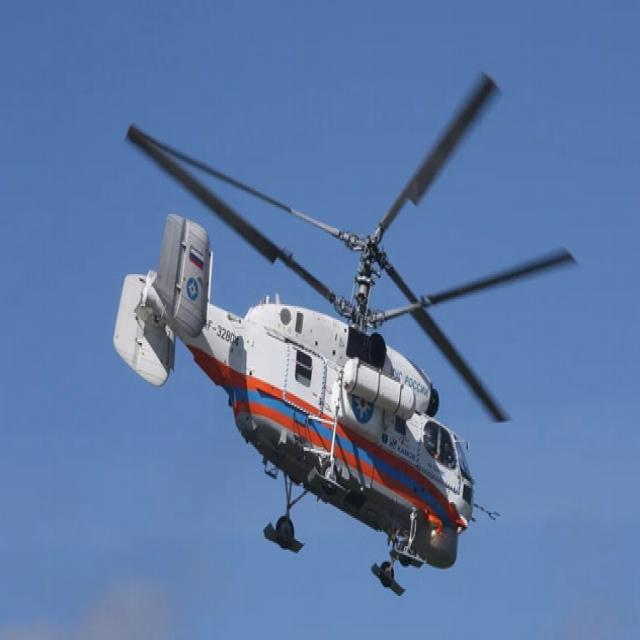helicopter: (106, 59, 584, 613)
